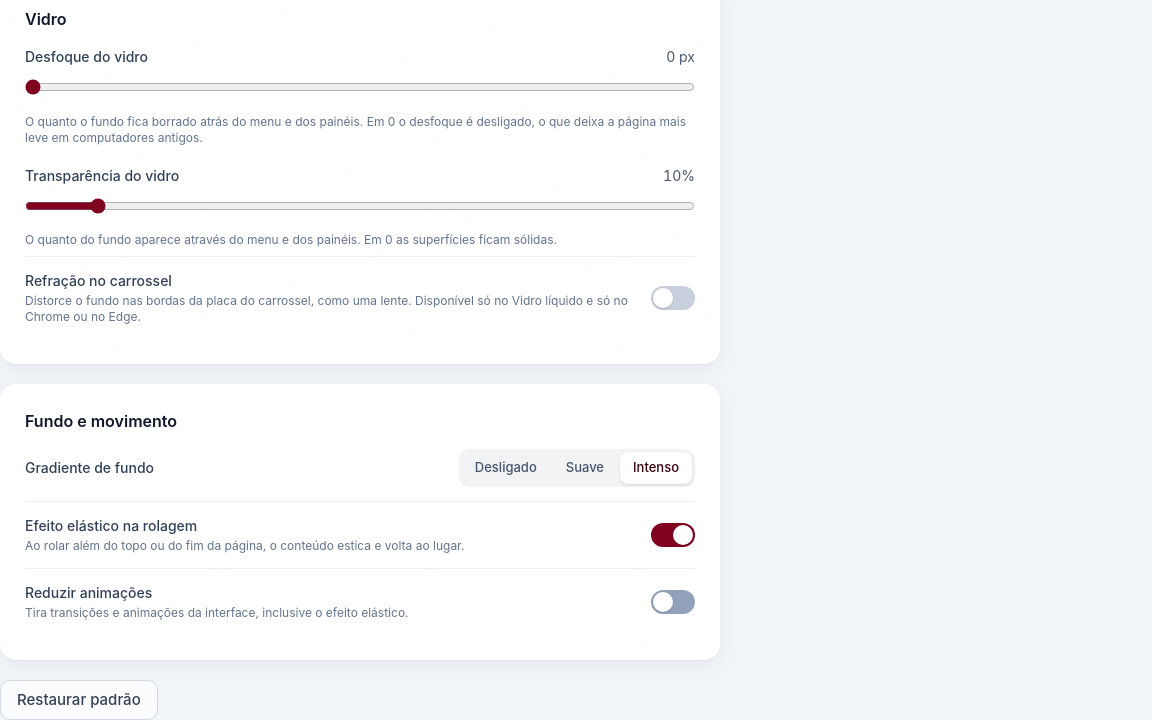
it: GER-14 — página Configurações › "Restaurar padrão" volta todas as opções
(page scrolled)
Click the button "Restaurar padrão" at [79, 700], box [0,680,158,719]
(page scrolled)
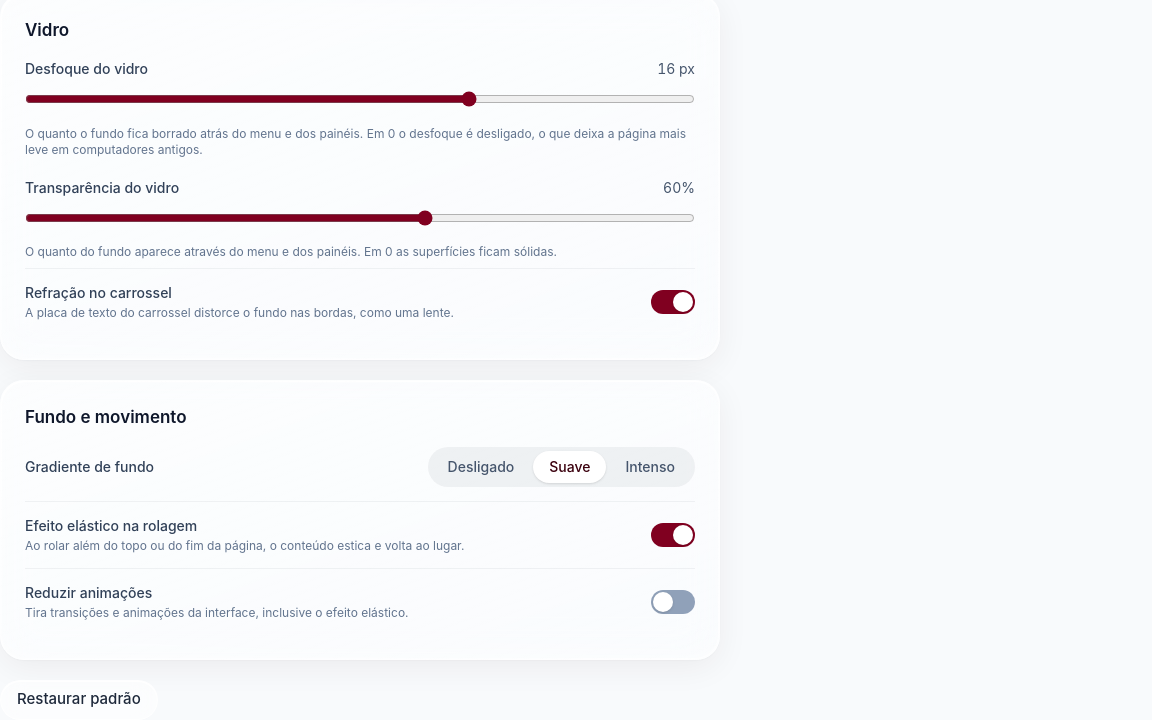
Expected: the slider labelled "Desfoque do vidro" holds "16", [25,79,695,119]
Expected: the radio button labelled "Suave" is checked, [533,450,606,482]
